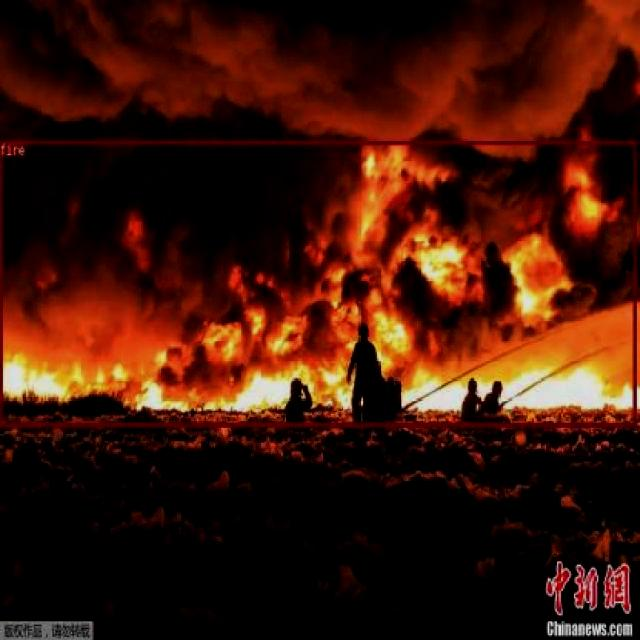fire: (0, 138, 635, 426)
